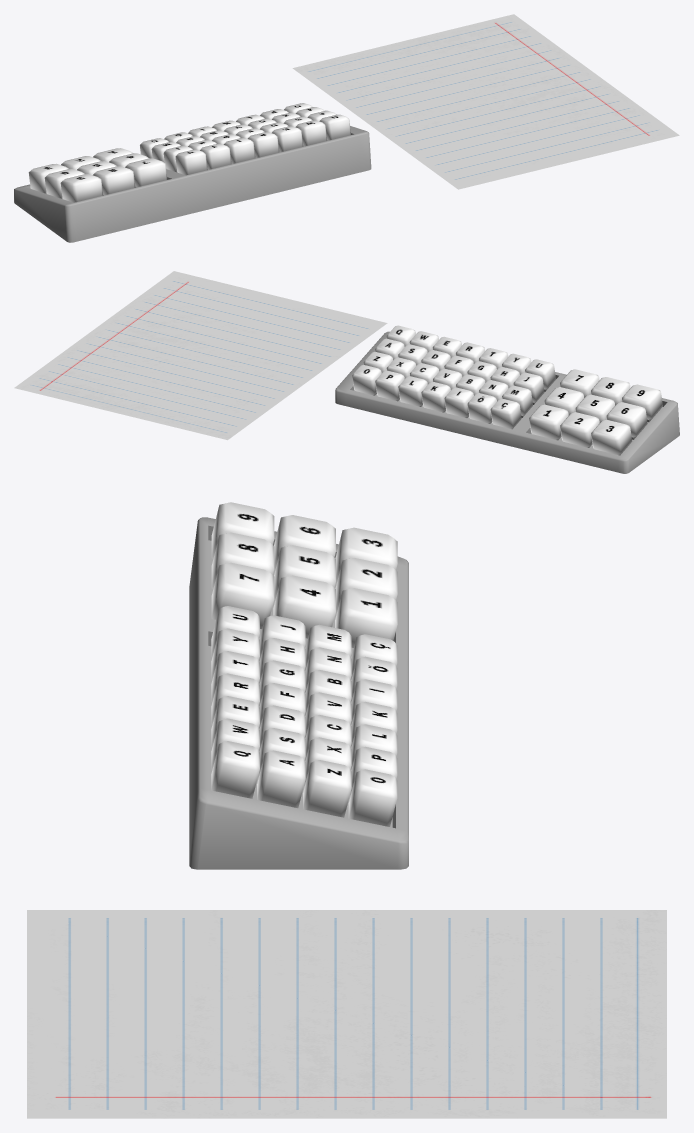
Rendered from KeyboardRun_klavye-paper.fbx.
The picture shows the model from 3 angles, top to bottom: view 1: azimuth 30°, elevation 25°; view 2: azimuth 150°, elevation 25°; view 3: azimuth 270°, elevation 25°; orthographic projection. The views are drawn at different scales.
Parts seen in each view (by area): view 1: paper, klavye_alt.key1, key1.034, key1.028, key1.031, key1.024, key1.012, key1.020, key1.004, key1, key1.008, key1.016 (+3 smaller); view 2: paper, klavye_alt.key1, key1.036, key1.030, key1.033, key1.035, key1.034, key1.027, key1.028, key1.032, key1.031, key1.029 (+27 smaller); view 3: paper, klavye_alt.key1, key1.028, key1.030, key1.029, key1.003, key1, key1.001, key1.002, key1.031, key1.034, key1.033 (+27 smaller).
Boxes of the visible parts, <box> form: paper: <box>292,14,679,189</box>; klavye_alt.key1: <box>14,126,371,242</box>; key1.034: <box>60,174,103,202</box>; key1.028: <box>125,158,167,187</box>; key1.031: <box>93,166,135,195</box>; key1.024: <box>175,149,207,175</box>; key1.012: <box>247,132,279,158</box>; key1.020: <box>200,143,231,169</box>; key1.004: <box>295,120,327,146</box>; key1: <box>319,114,350,140</box>; key1.008: <box>272,126,303,152</box>; key1.016: <box>223,138,255,163</box>; paper: <box>14,271,387,440</box>; klavye_alt.key1: <box>335,331,679,473</box>; key1.036: <box>591,419,632,454</box>; key1.030: <box>529,404,568,439</box>; key1.033: <box>560,412,599,447</box>; key1.035: <box>606,402,647,437</box>; key1.034: <box>622,384,662,419</box>; key1.027: <box>490,398,521,428</box>; key1.028: <box>560,369,599,397</box>; key1.032: <box>575,394,614,422</box>; key1.031: <box>591,377,630,405</box>; key1.029: <box>544,387,583,415</box>; paper: <box>27,910,666,1118</box>; klavye_alt.key1: <box>189,517,408,869</box>; key1.028: <box>211,562,274,629</box>; key1.030: <box>335,588,397,647</box>; key1.029: <box>273,575,335,638</box>; key1.003: <box>348,769,397,826</box>; key1: <box>211,741,259,798</box>; key1.001: <box>257,750,305,808</box>; key1.002: <box>303,760,351,817</box>; key1.031: <box>211,532,274,589</box>; key1.034: <box>211,502,274,558</box>; key1.033: <box>335,558,397,614</box>.
Size of the model in its own units: 25.87 by 2.17 by 13.07.
